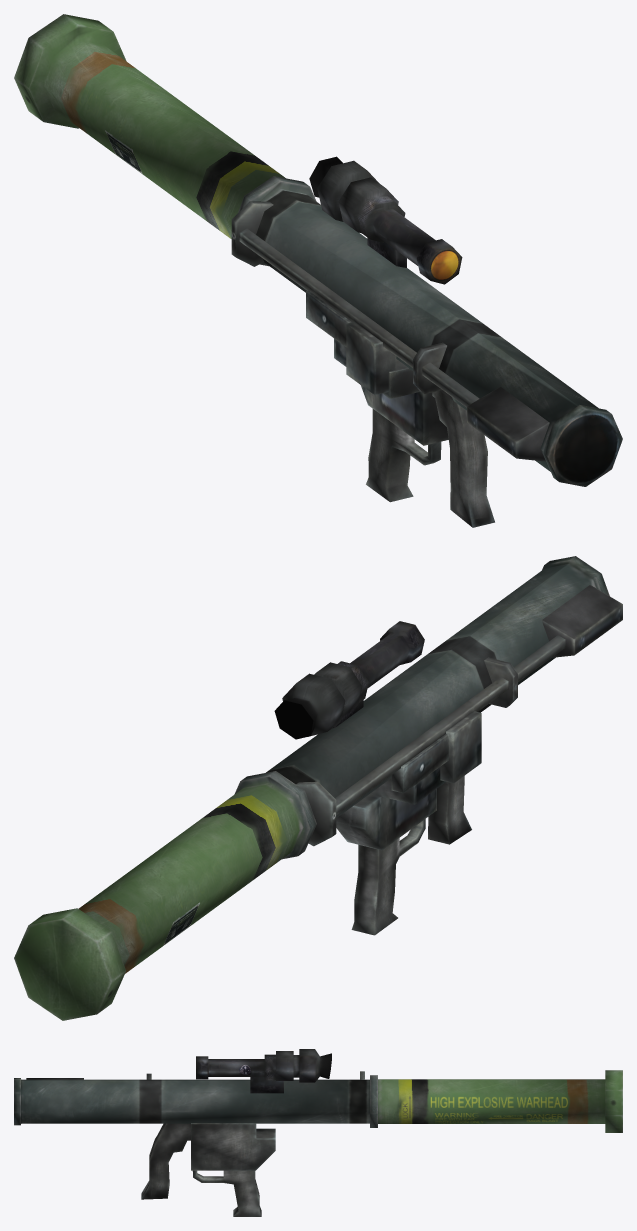
Rendered from SMAW4.fbx.
3 renders of one model, top to bottom at view 1: azimuth 30°, elevation 25°; view 2: azimuth 150°, elevation 25°; view 3: azimuth 270°, elevation 25°, orthographic. The views are drawn at different scales.
Visible parts, largest first — view 1: SMAW, SMAW.001, SMAW.003; view 2: SMAW, SMAW.001, SMAW.002; view 3: SMAW, SMAW.001.
Boxes of the visible parts, bbox=[...] form: SMAW: bbox=[14, 14, 622, 527]; SMAW.001: bbox=[309, 156, 452, 280]; SMAW.003: bbox=[427, 247, 462, 284]; SMAW: bbox=[14, 556, 622, 1020]; SMAW.001: bbox=[282, 621, 424, 736]; SMAW.002: bbox=[274, 700, 313, 739]; SMAW: bbox=[14, 1070, 622, 1216]; SMAW.001: bbox=[196, 1049, 331, 1093].
Size of the model in its own units: 19.2 by 47.81 by 161.
Materials: 1 (1 with a texture image).
